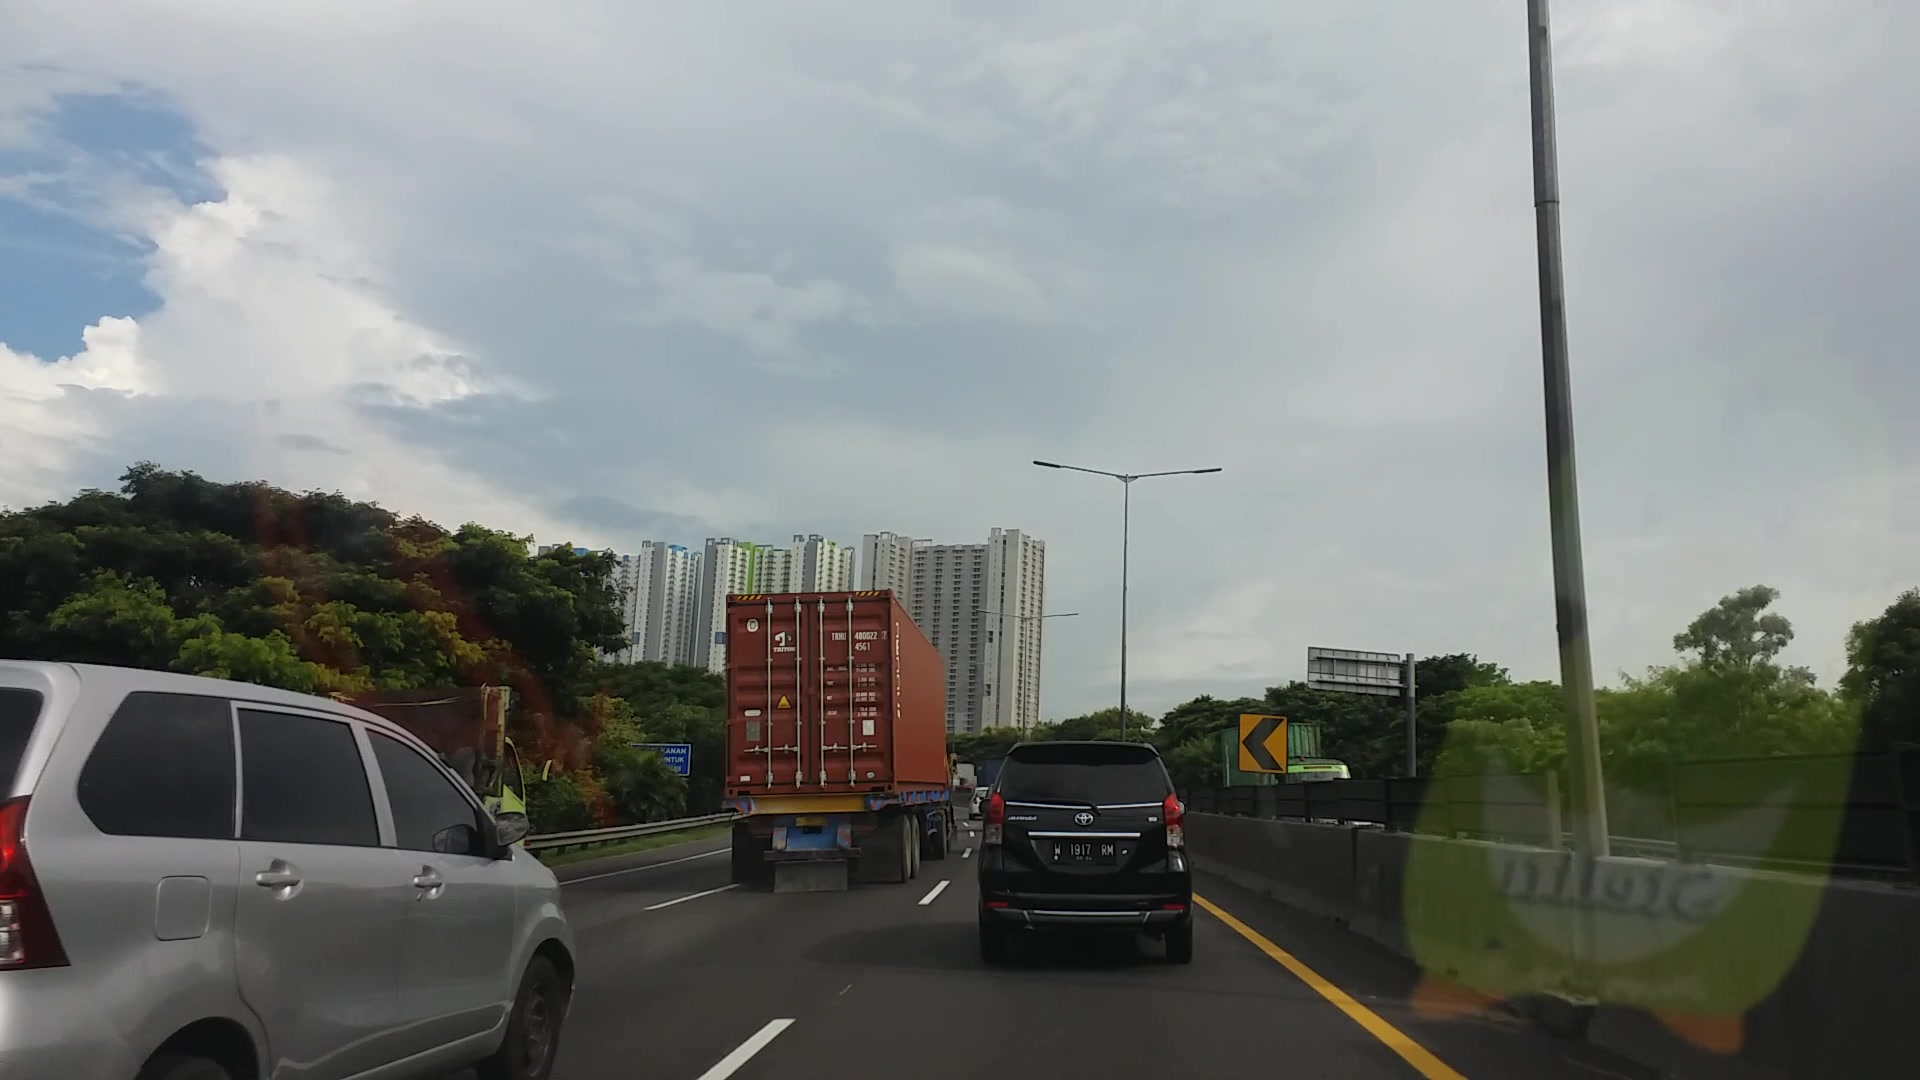plate_positive: (1054, 837, 1116, 862)
